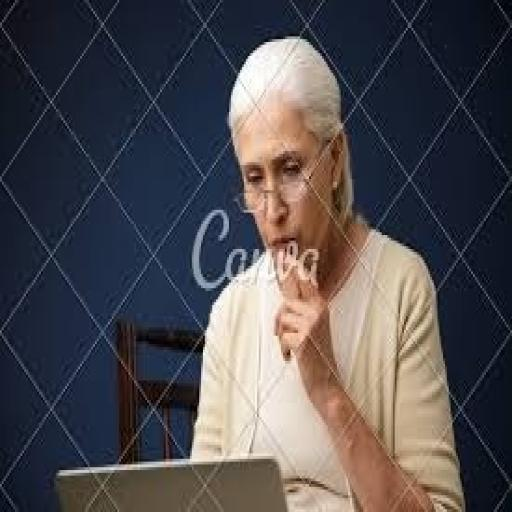using_laptop: (46, 380, 318, 512)
